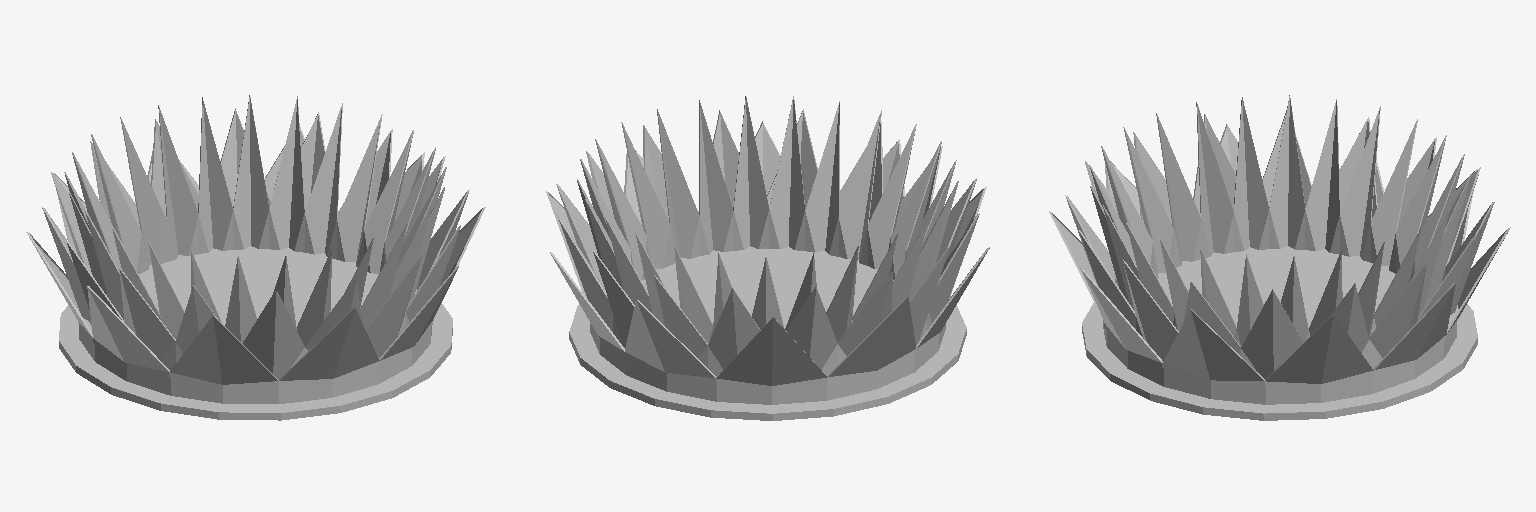
The model's file is portal_000021.obj.
3 renders of one model, left to right at view 1: azimuth 30°, elevation 25°; view 2: azimuth 150°, elevation 25°; view 3: azimuth 270°, elevation 25°, orthographic.
Visible parts, largest first — view 1: Cylinder.001, pCylinder1, Cylinder; view 2: Cylinder.001, pCylinder1, Cylinder; view 3: Cylinder.001, pCylinder1, Cylinder.
Part boxes in pixels (x1,y1,x2,y2): Cylinder.001: (64, 95, 446, 345); pCylinder1: (26, 127, 485, 420); Cylinder: (42, 108, 469, 379); Cylinder.001: (577, 96, 958, 343); pCylinder1: (546, 121, 989, 420); Cylinder: (556, 109, 979, 376); Cylinder.001: (1089, 95, 1471, 346); pCylinder1: (1049, 124, 1510, 420); Cylinder: (1065, 110, 1494, 379).
Bounding box in the file's own units: 7.25 × 2.9 × 7.42.